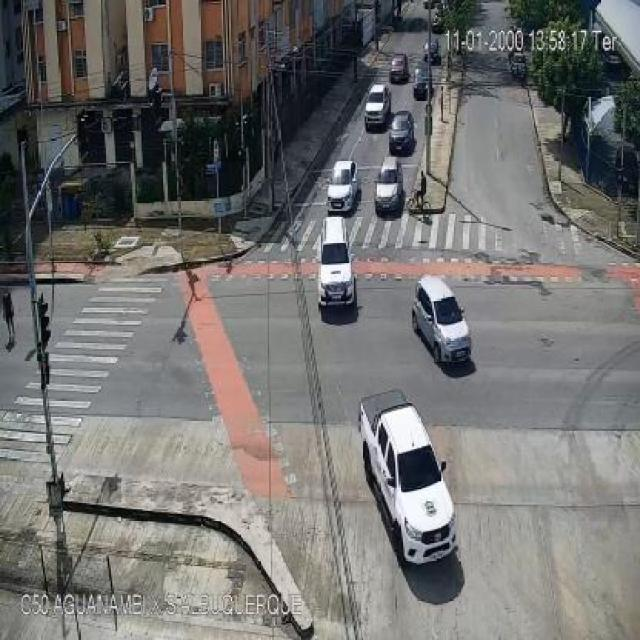Car: (361, 389, 456, 564), (410, 274, 478, 373), (317, 218, 355, 308), (327, 159, 359, 213), (374, 158, 404, 214), (364, 84, 391, 130), (388, 111, 414, 153), (412, 66, 432, 100), (389, 53, 410, 84), (508, 52, 528, 81), (422, 40, 440, 64)
Cycle: (400, 170, 438, 218)
